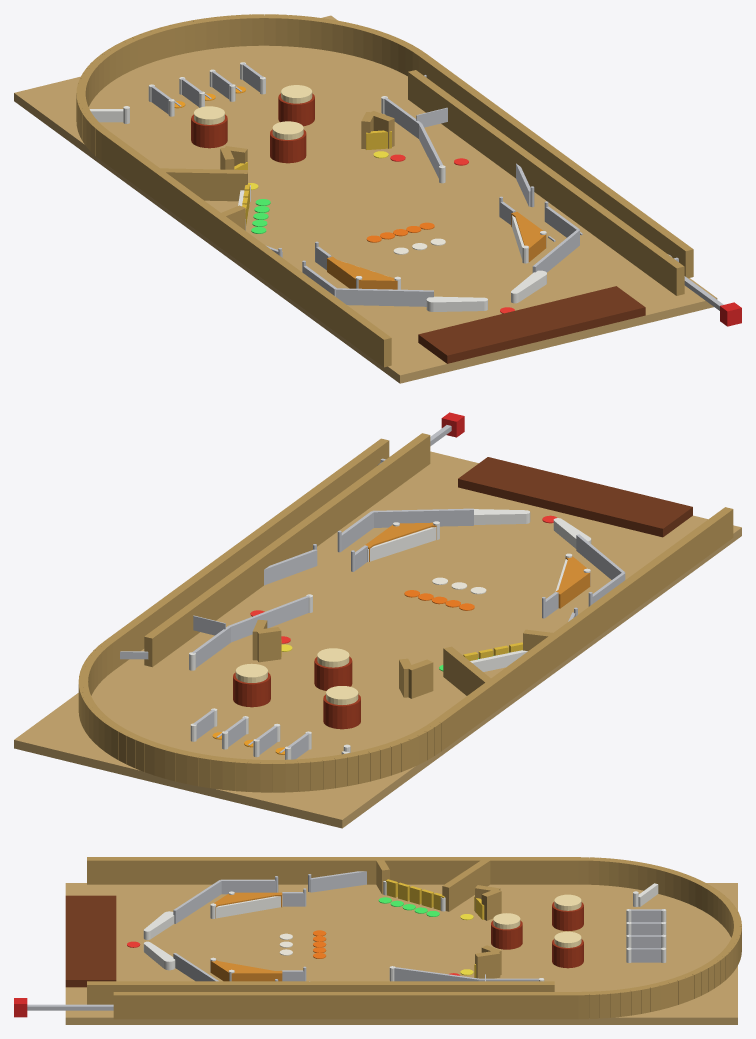
Rendered from acorn_playfield_blockout.obj.
The picture shows the model from 3 angles, top to bottom: view 1: azimuth 30°, elevation 25°; view 2: azimuth 150°, elevation 25°; view 3: azimuth 270°, elevation 25°; orthographic projection. The views are drawn at different scales.
Parts seen in each view (by area): view 1: Playfield_board, Wall01_wood, Wall02_wood, Apron, Wall17_wood, Wall04_metal, Wall05_metal, Wall18_metal, Wall06_plastic, PopBumper1_body, PopBumper3_body, Flipper_L (+3 smaller); view 2: Playfield_board, Wall01_wood, Wall02_wood, Apron, Wall05_metal, Wall18_metal, Wall17_wood, Wall20_wood, Wall04_metal, Wall19_wood, Slingshot_R_rubber, Wall22_metal (+5 smaller); view 3: Playfield_board, Wall01_wood, Wall02_wood, Apron, Wall04_metal, Wall17_wood, Wall18_metal, Wall21_metal, Wall07_plastic, Slingshot_L_rubber, Wall19_wood, Wall20_wood (+17 smaller).
Boxes of the visible parts, x1,y1,x2,y2 form: Playfield_board: (14,15,717,383); Wall01_wood: (76,14,693,367); Wall02_wood: (408,70,684,295); Apron: (418,286,645,363); Wall17_wood: (157,168,247,201); Wall04_metal: (303,266,433,306); Wall05_metal: (532,206,579,272); Wall18_metal: (383,97,442,178); Wall06_plastic: (327,256,397,289); PopBumper1_body: (191,114,227,148); PopBumper3_body: (270,129,306,163); Flipper_L: (426,296,487,311); Playfield_board: (14,451,741,828); Wall01_wood: (78,438,733,792); Wall02_wood: (144,433,430,667); Apron: (458,457,692,537); Wall05_metal: (341,508,473,551); Wall18_metal: (191,595,310,667); Wall17_wood: (443,646,493,695); Wall20_wood: (399,658,433,698); Wall04_metal: (576,534,625,603); Wall19_wood: (252,619,281,662); Slingshot_R_rubber: (367,527,436,561); Wall22_metal: (264,549,317,585); Playfield_board: (65,883,737,1024); Wall01_wood: (87,857,741,1019); Wall02_wood: (87,981,554,1004); Apron: (65,895,116,987); Wall04_metal: (173,879,275,923); Wall17_wood: (442,858,490,911); Wall18_metal: (393,966,539,981); Wall21_metal: (310,871,366,892); Wall07_plastic: (210,960,282,981); Slingshot_L_rubber: (216,895,282,918); Wall19_wood: (475,945,501,978); Wall20_wood: (475,885,501,920).
Bounding box in the file's own units: 0.6888 × 0.0728 × 1.53.
